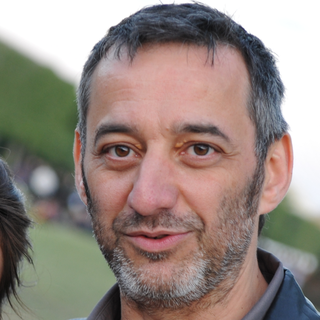eye: (176, 138, 226, 164), (98, 139, 144, 165)
